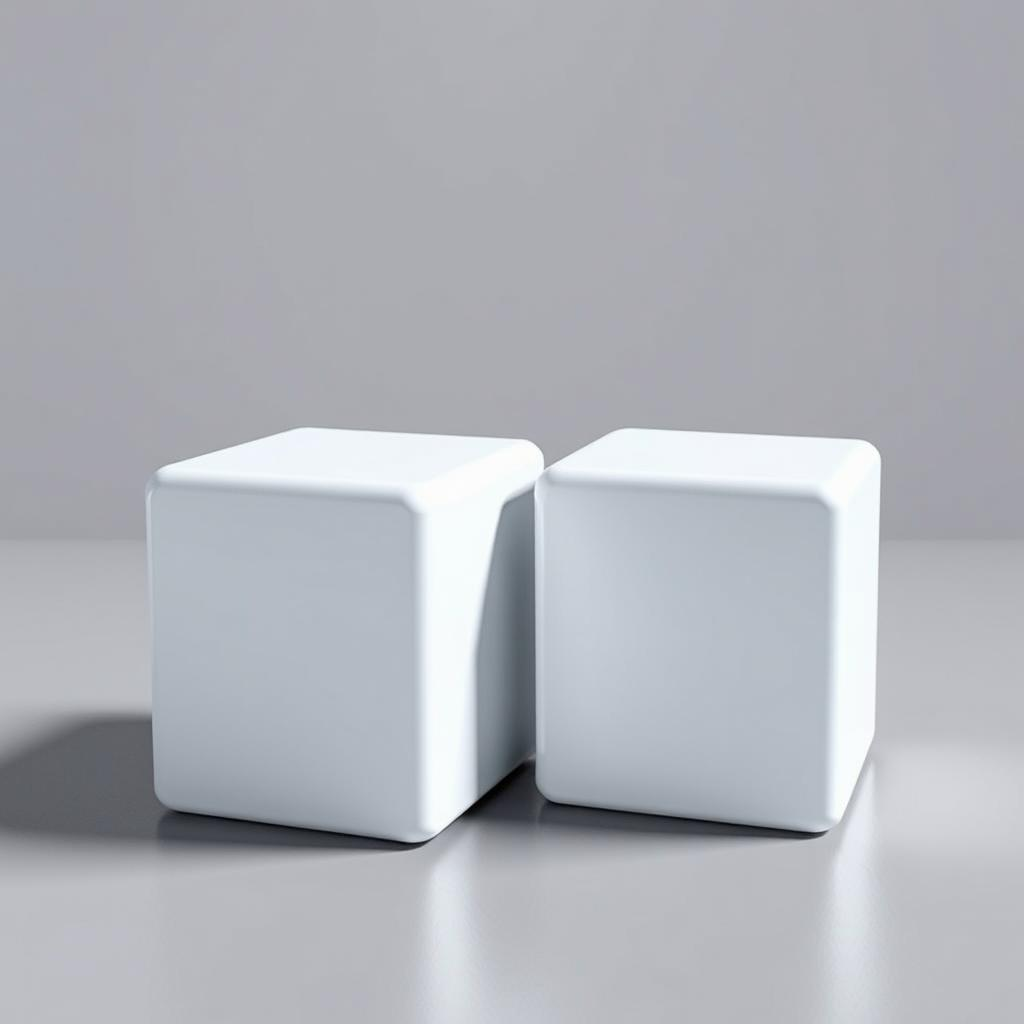cube: (143, 424, 543, 844), (533, 425, 881, 835)
